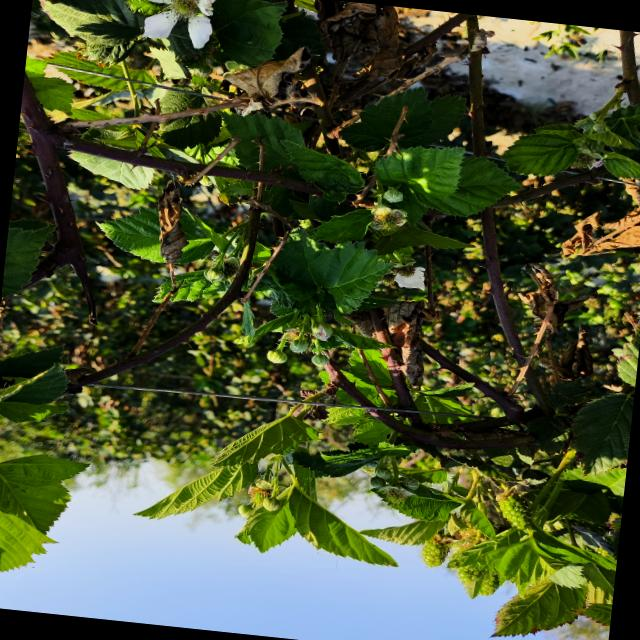boton: (311, 322, 332, 340), (382, 186, 403, 202), (289, 338, 309, 352), (266, 350, 286, 363), (262, 497, 280, 511), (311, 354, 328, 366), (238, 504, 253, 517)
